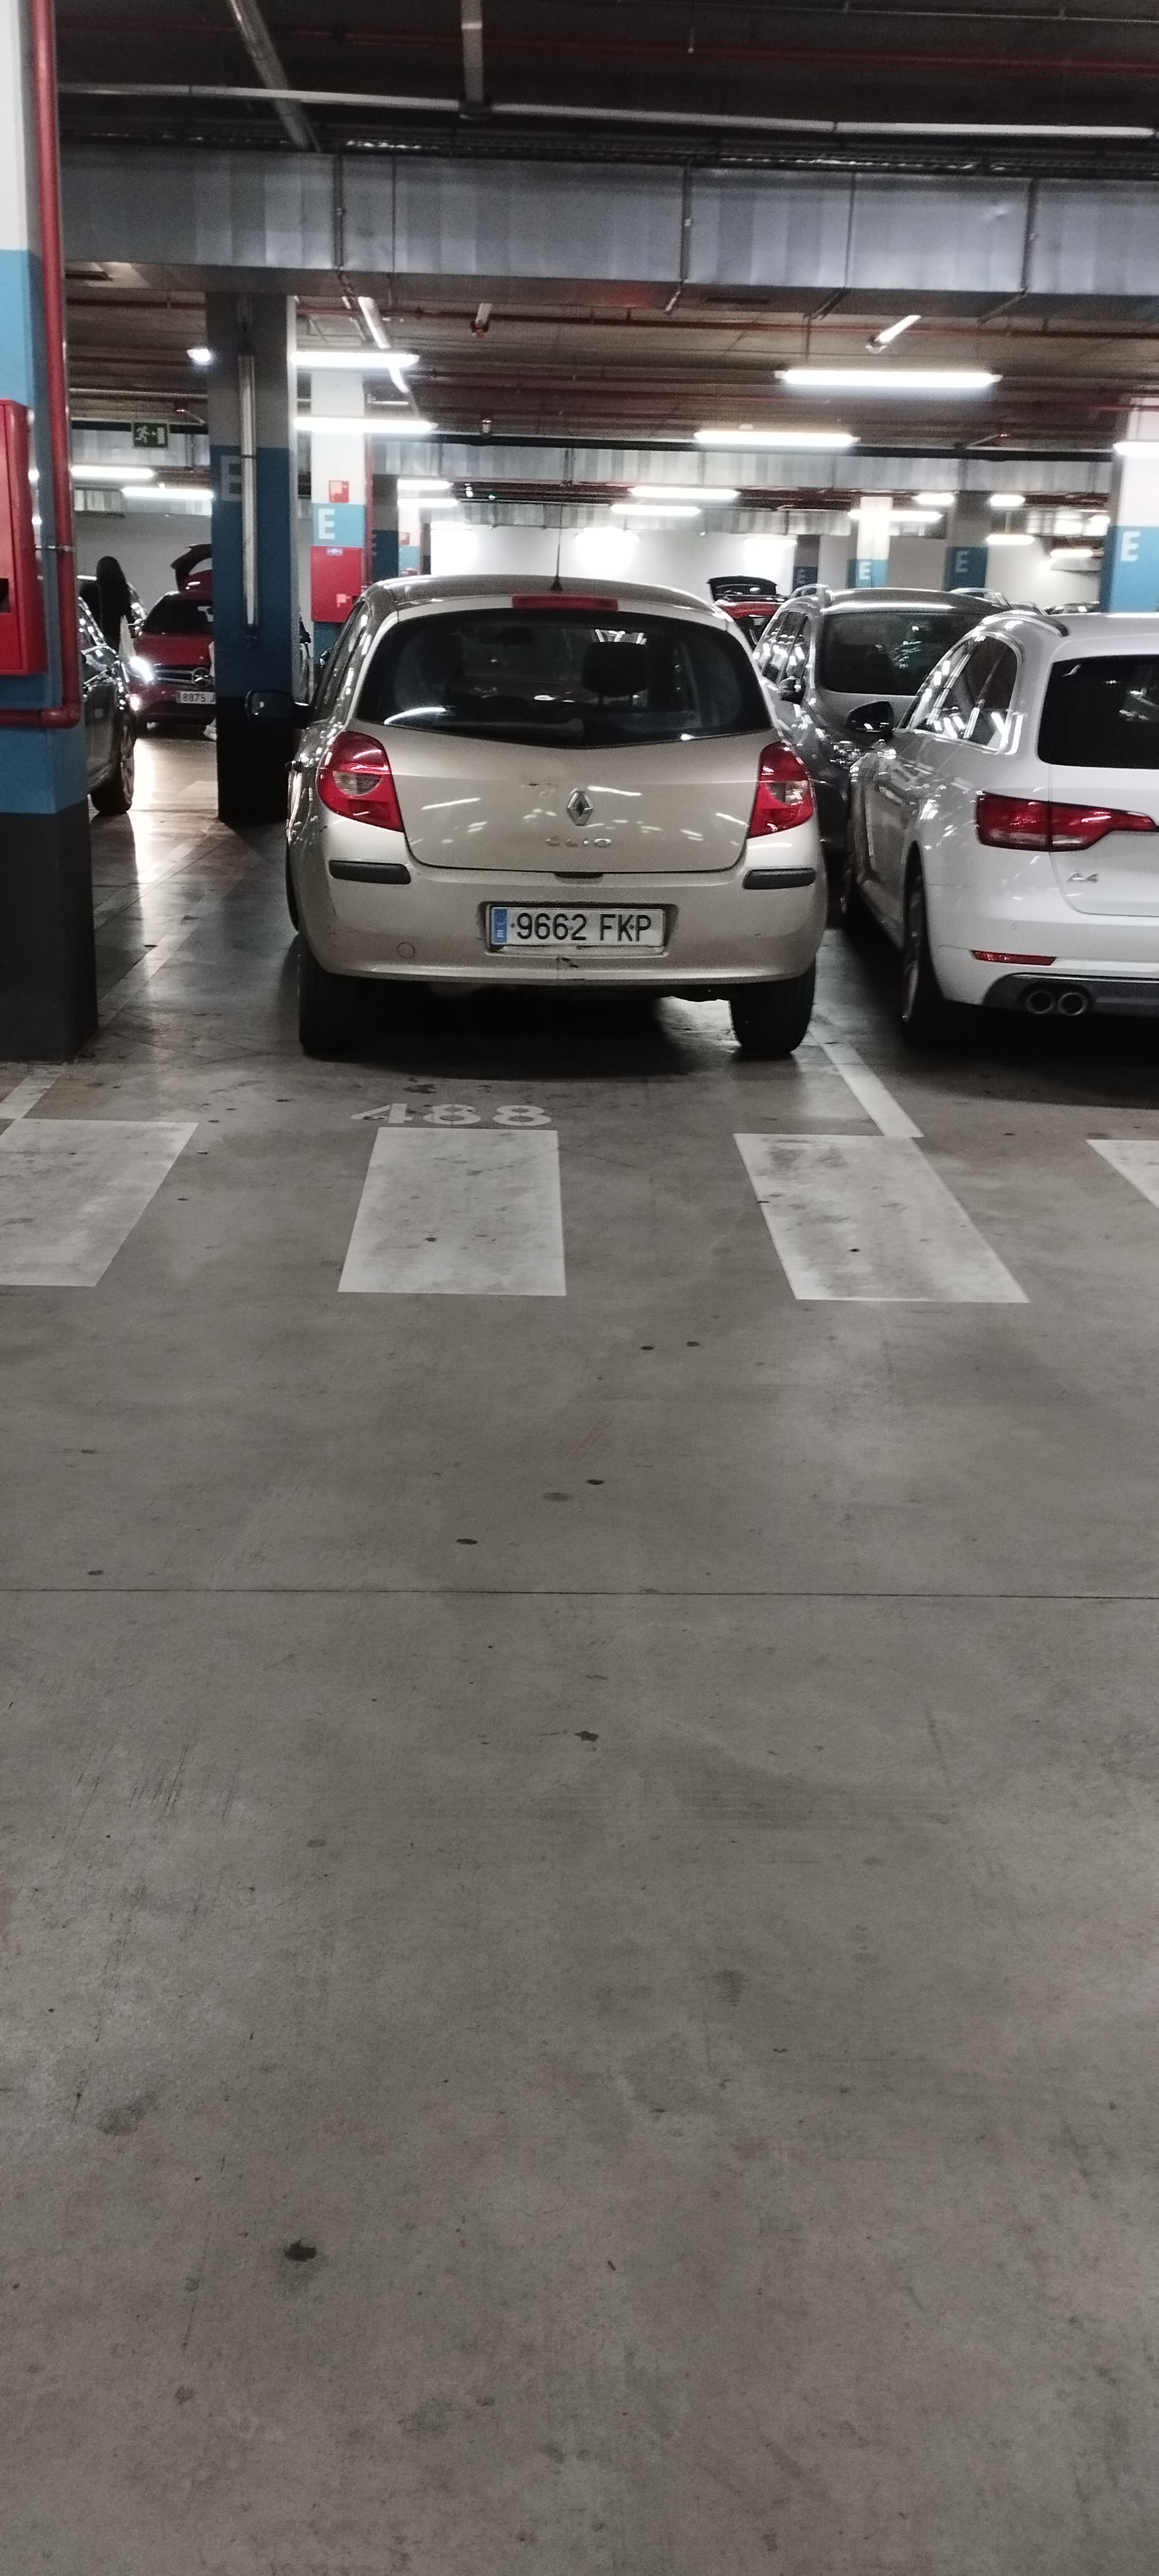Car: (287, 575, 815, 1069)
Plate: (477, 897, 672, 954)
